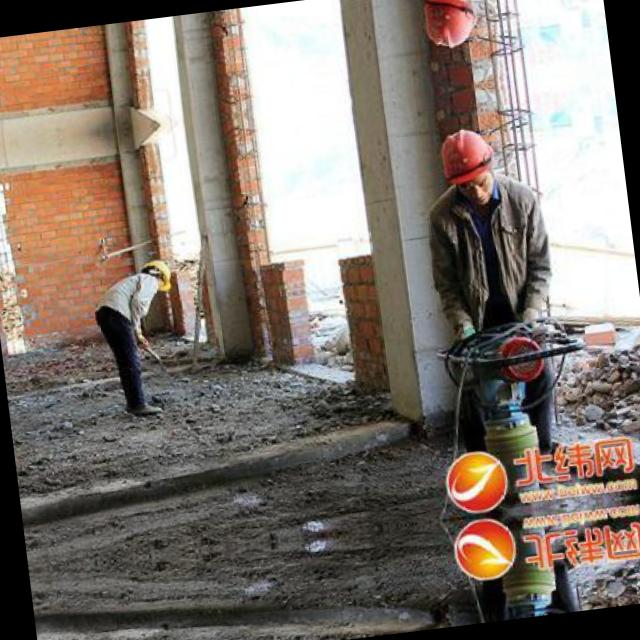helmet: (432, 123, 501, 205), (414, 0, 483, 53), (136, 254, 176, 295)
